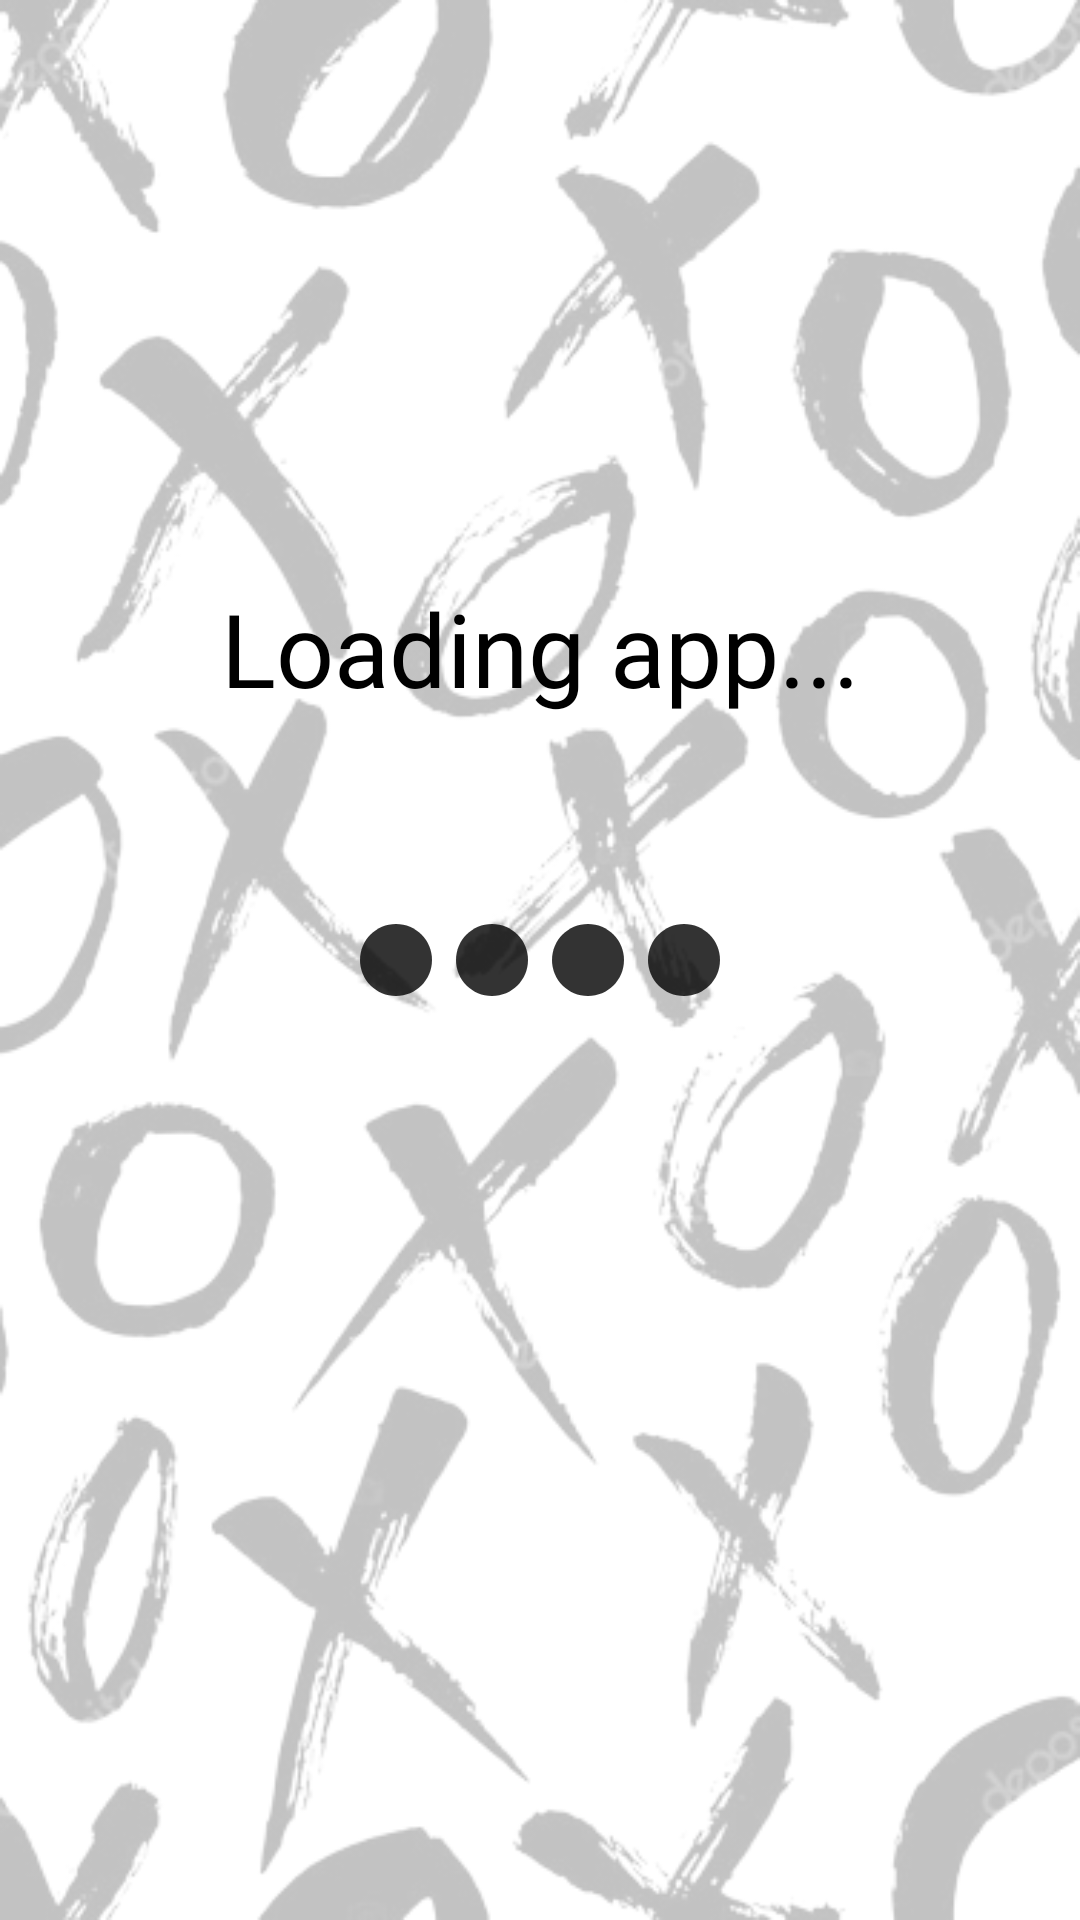

Where to tap for icons on this 1080w x 1920h app screen, as [x,y]:
loading dot: [396,960], [492,960], [588,960], [684,960]
